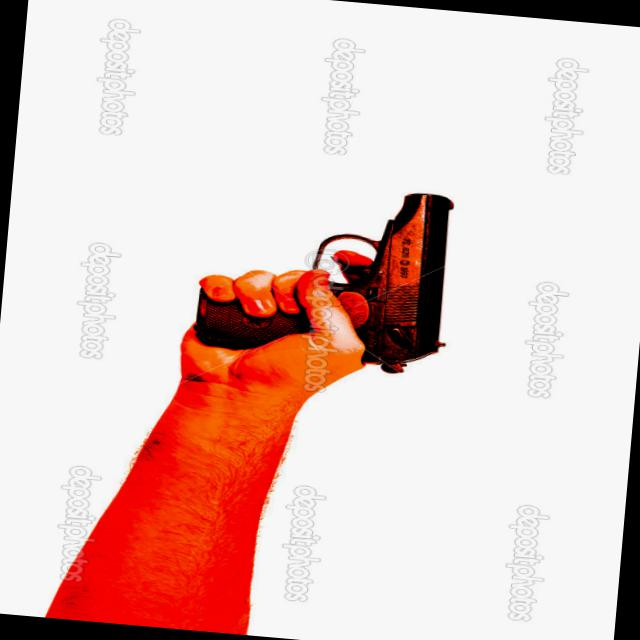handgun: (186, 182, 470, 380)
